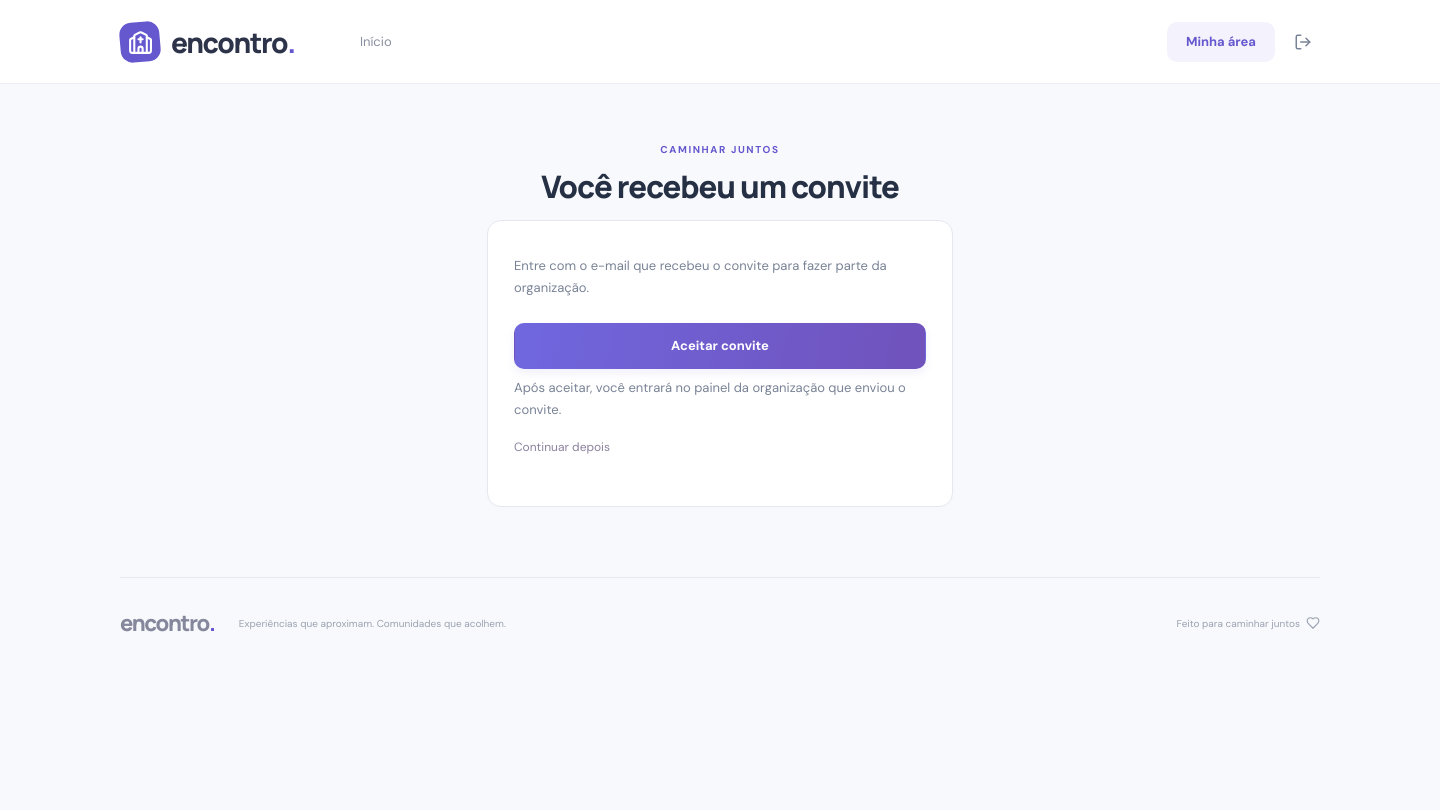
Test: Entrada de organizadores › permite continuar depois e remove o retorno pendente
What coordinates should you click on to do the following:
click the link "Continuar depois"
I would click on:
 (562, 447)
Its box is [514, 439, 610, 455].
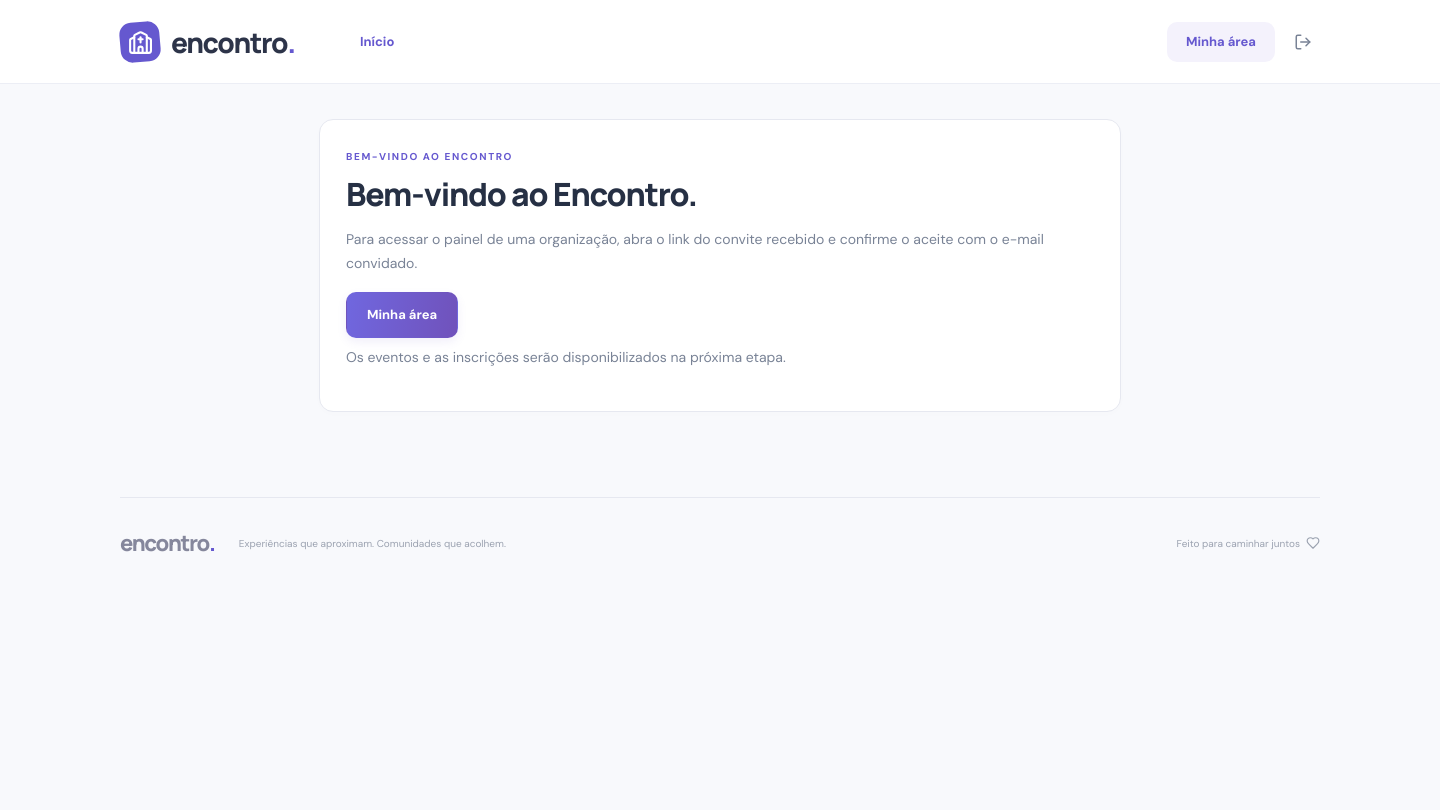
Result: the heading "Bem-vindo ao Encontro." is shown at [346, 172, 697, 216]
